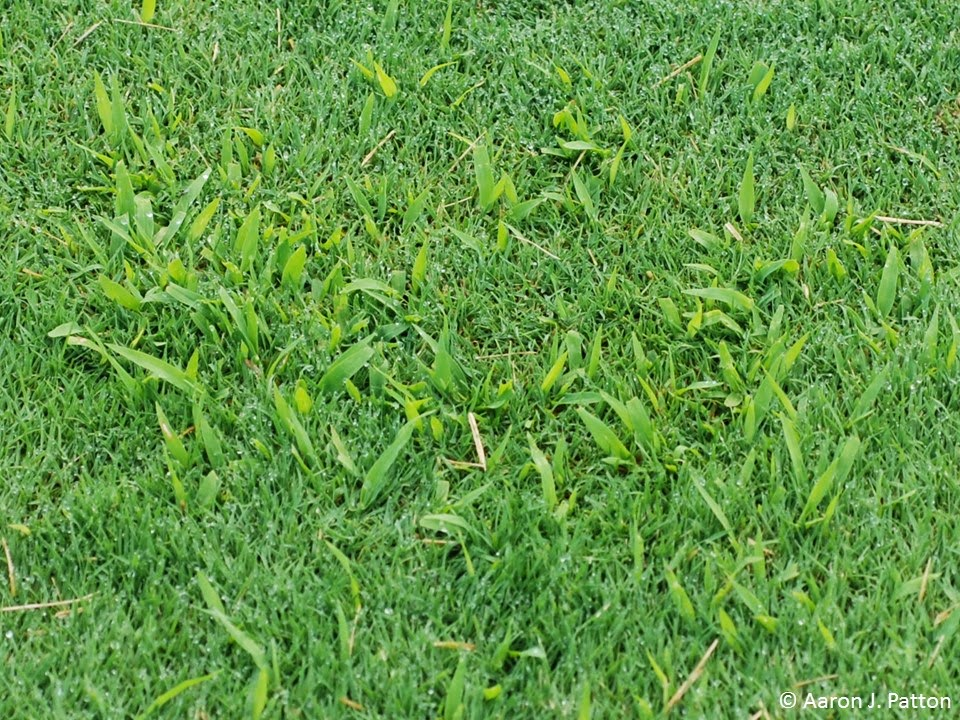crabgrass: (92, 133, 365, 430), (619, 173, 867, 453), (400, 324, 604, 468)
